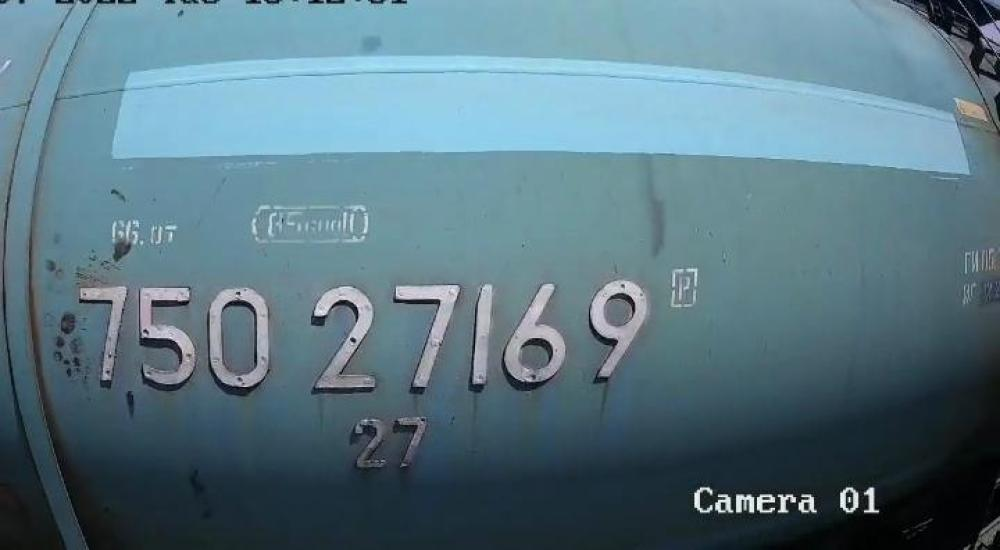Wagon-number: (78, 274, 652, 397)
